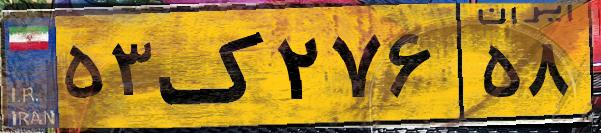2: (270, 28, 330, 110)
3: (110, 28, 158, 98)
5: (57, 26, 110, 100), (475, 38, 525, 113)
6: (385, 28, 445, 110)
7: (330, 28, 385, 110)
8: (525, 38, 570, 115)
ک: (158, 12, 270, 120)
